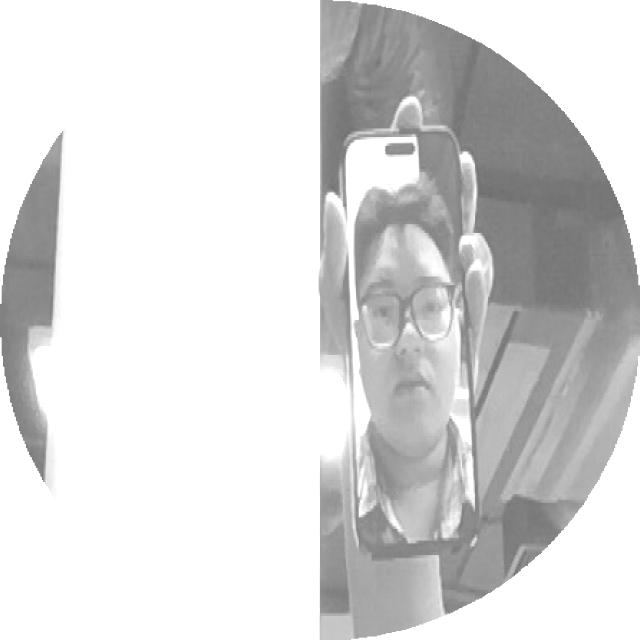fake: (306, 110, 503, 567), (336, 122, 486, 565)
